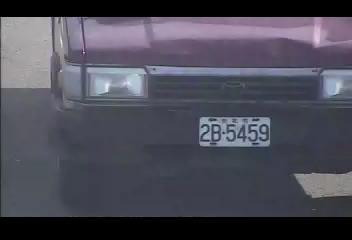plate: (197, 114, 272, 148)
